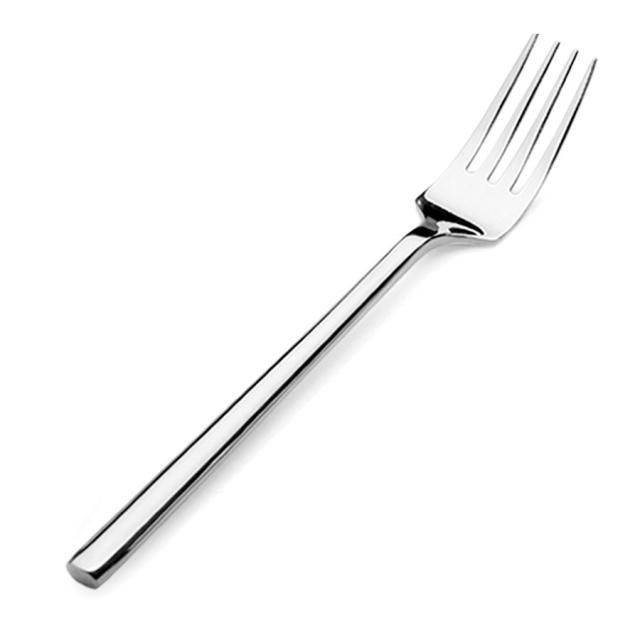plastic utensil: (68, 34, 595, 587)
